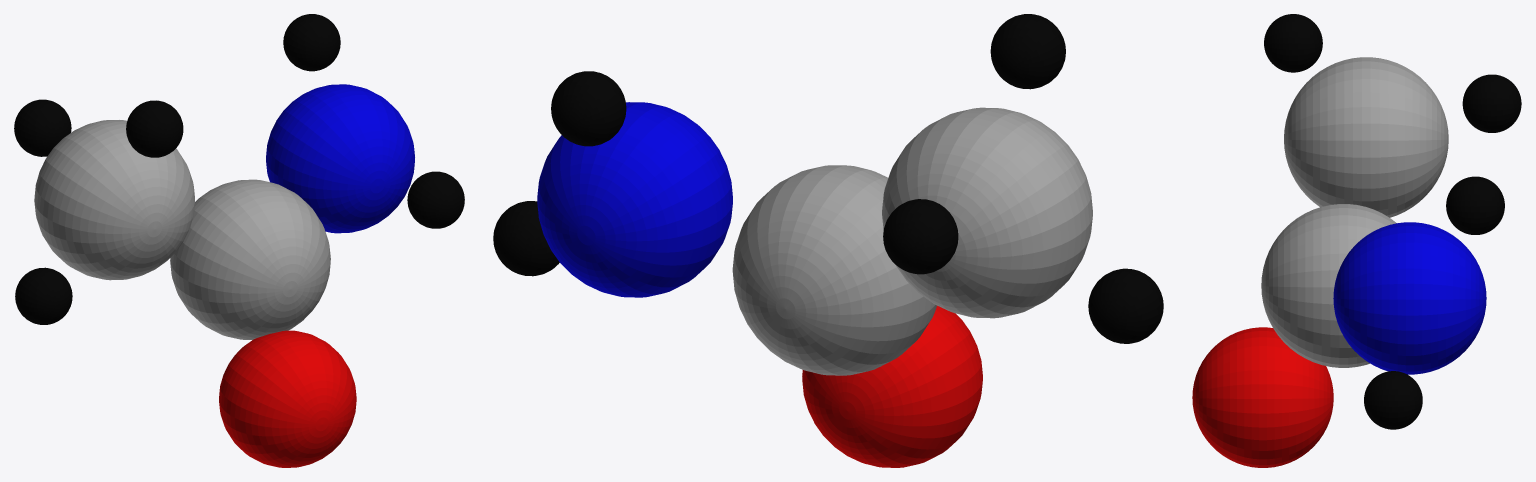
The model's file is Acetamide.glb.
The picture shows the model from 3 angles, left to right: view 1: azimuth 30°, elevation 25°; view 2: azimuth 150°, elevation 25°; view 3: azimuth 270°, elevation 25°; orthographic projection. The views are drawn at different scales.
Parts seen in each view (by area): view 1: world; view 2: world; view 3: world.
Boxes of the visible parts, box(x1,y1,x2,y2) form: world: box(14, 14, 464, 467); world: box(493, 14, 1163, 467); world: box(1192, 14, 1521, 467).
Size of the model in its own units: 4.75 by 3.61 by 2.79.
